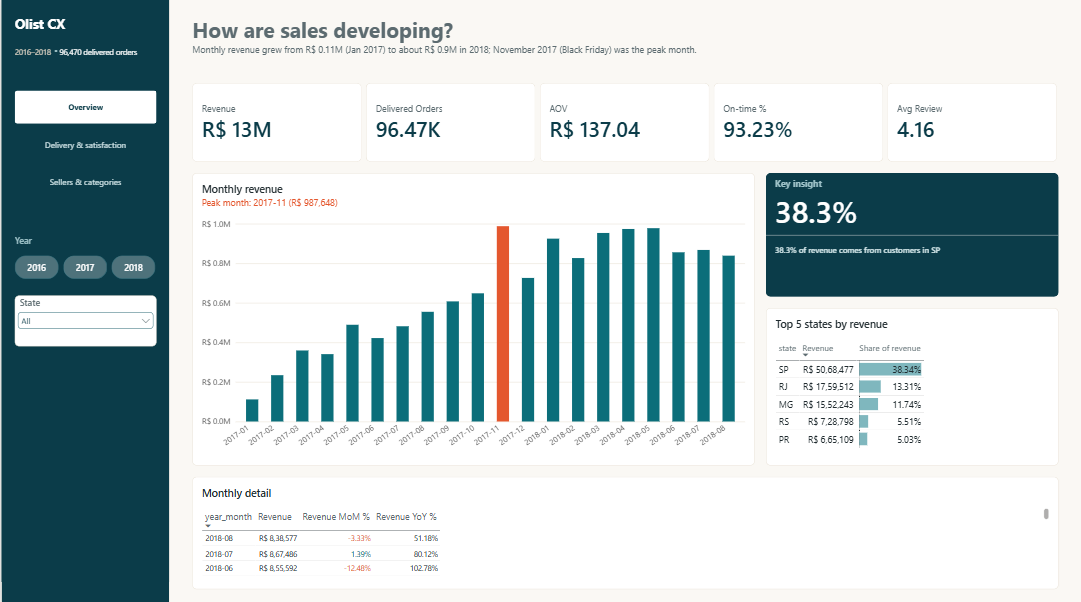

What the dashboard file says about the page in this screenshot:
{"tool":"powerbi","page":{"name":"Overview","canvas":[1920,1080],"ordinal":0},"visuals":[{"type":"shape","box":[0,-8,300,1088],"z":0,"group":"g1"},{"type":"textbox","box":[340,30,1540,100],"z":0},{"type":"textbox","box":[24,30,252,105],"z":1000,"group":"g1"},{"type":"cardVisual","fields":{"Data":["_Measures.Revenue","_Measures.Delivered Orders","_Measures.AOV","_Measures.On-time %","_Measures.Avg Review"]},"box":[340,150,1540,140],"z":1000},{"type":"pageNavigator","box":[24,165,252,195],"z":2000,"group":"g1"},{"type":"clusteredColumnChart","title":"Monthly revenue","fields":{"Category":["dim_date.year_month"],"Y":["_Measures.Revenue"]},"box":[340,310,1000,520],"z":2000},{"type":"cardVisual","fields":{"Data":["_Measures.Top State Share"]},"box":[1360,310,520,220],"z":3000},{"type":"advancedSlicerVisual","title":"Year","fields":{"Values":["dim_date.year"]},"box":[24,420,252,80],"z":3000,"group":"g1"},{"type":"slicer","fields":{"Values":["dim_customer.state"]},"box":[24,530,252,90],"z":4000,"group":"g1"},{"type":"tableEx","title":"Top 5 states by revenue","fields":{"Values":["dim_customer.state","_Measures.Revenue","_Measures.State Share of Total"]},"box":[1360,550,520,280],"z":4000},{"type":"tableEx","title":"Monthly detail","fields":{"Values":["dim_date.year_month","_Measures.Revenue","_Measures.Revenue MoM %","_Measures.Revenue YoY %"]},"box":[340,850,1540,200],"z":5000},{"type":"group","id":"g1","title":"Sidebar","box":[0,-8,300,1088],"z":6000}]}

Visuals, with their boxes on the page's 1920x1080 design canvas (x1, y1, x2, y2). These are canvas units, not pixel positions in the 1081x602 screenshot, which may show the page scaled, cropped or inside an application window:
shape: rect(0, -8, 300, 1080)
textbox: rect(340, 30, 1880, 130)
textbox: rect(24, 30, 276, 135)
cardVisual - _Measures.Revenue x _Measures.Delivered Orders: rect(340, 150, 1880, 290)
pageNavigator: rect(24, 165, 276, 360)
"Monthly revenue" clusteredColumnChart: rect(340, 310, 1340, 830)
cardVisual - _Measures.Top State Share: rect(1360, 310, 1880, 530)
"Year" advancedSlicerVisual: rect(24, 420, 276, 500)
slicer - dim_customer.state: rect(24, 530, 276, 620)
"Top 5 states by revenue" tableEx: rect(1360, 550, 1880, 830)
"Monthly detail" tableEx: rect(340, 850, 1880, 1050)
"Sidebar" group: rect(0, -8, 300, 1080)
